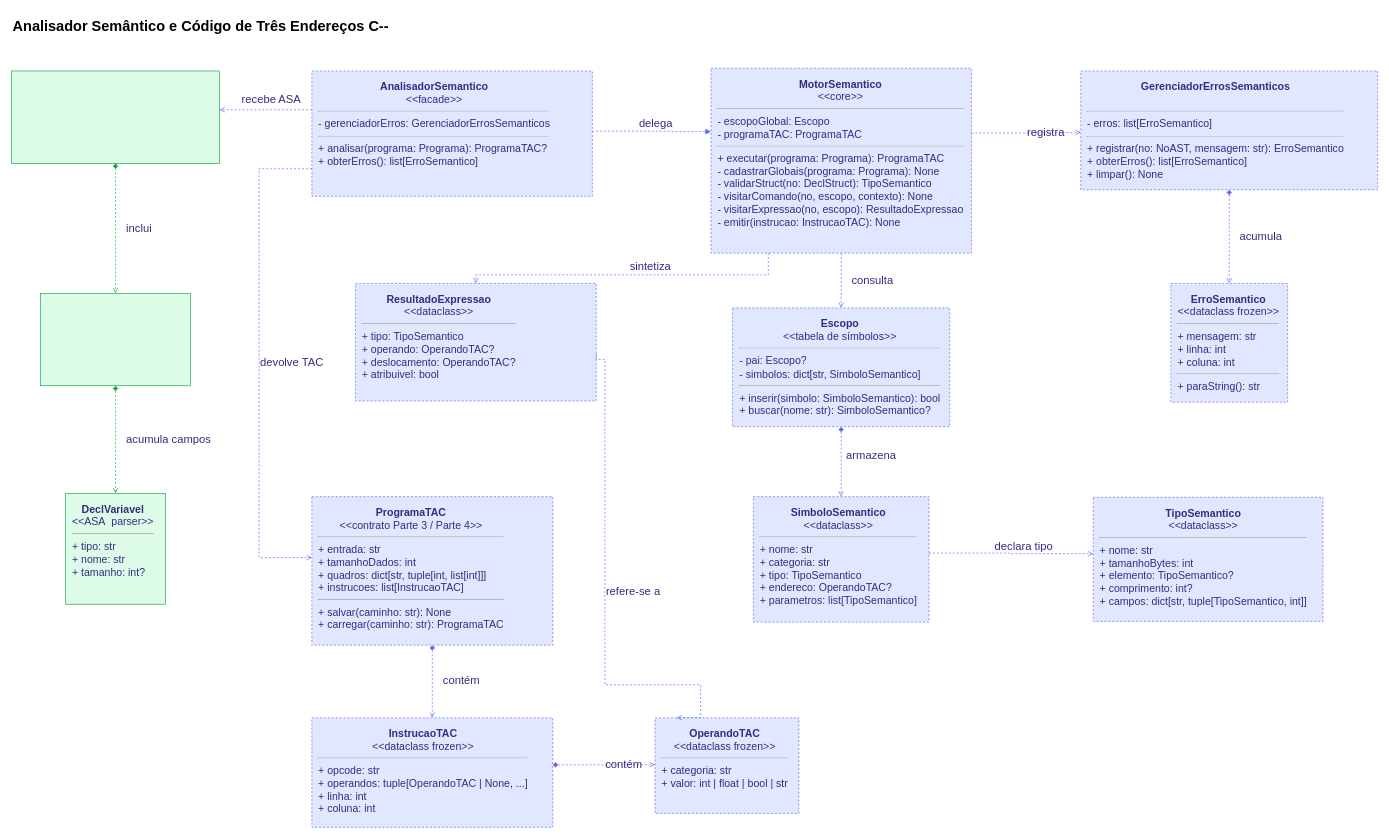
Image size: 1389x839. Some labels were removed from this diagram. The shapes that lost their labels are listed below. From the top down, each one's centre as x and y in pixels, then its label:
pixel 115 116: Programa <<ASA · parser>> + declaracoes: list[Declaracao]
pixel 115 339: DeclStruct <<ASA parser>> + campos: list[DeclVariavel]
